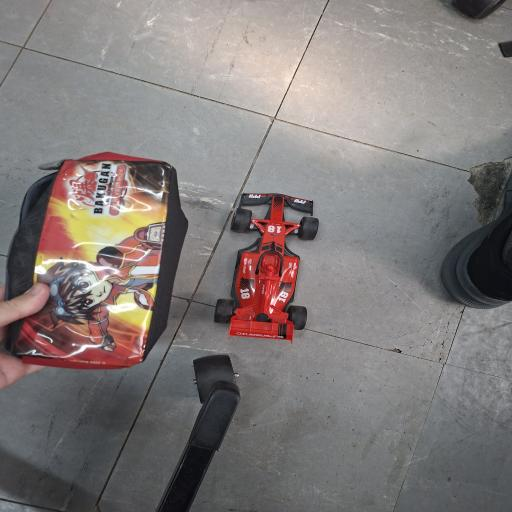carro: (212, 186, 320, 343)
